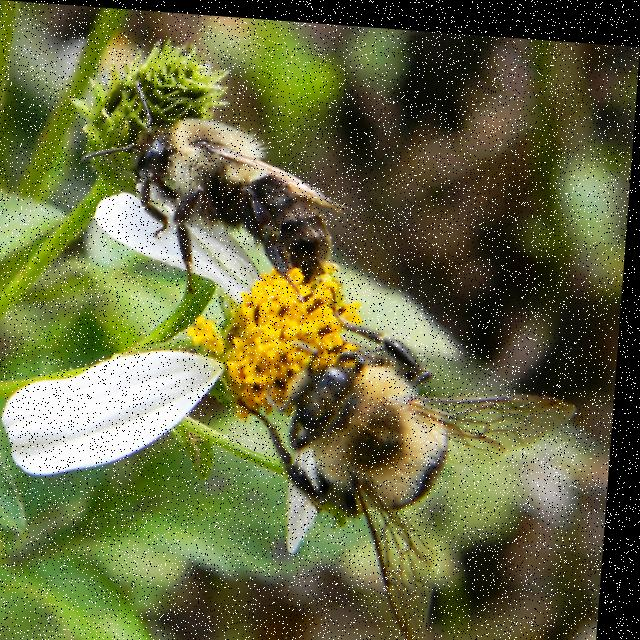Allodapula: (234, 298, 605, 640), (83, 60, 383, 302)
